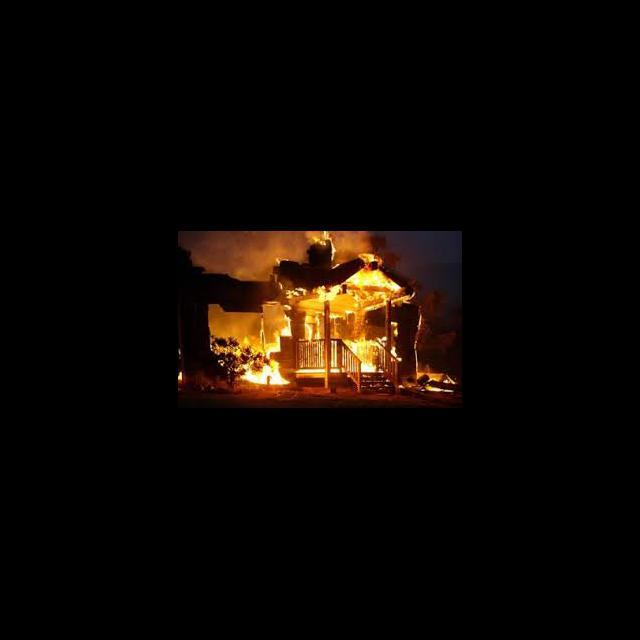Fire: (212, 232, 412, 391), (416, 370, 456, 395)
